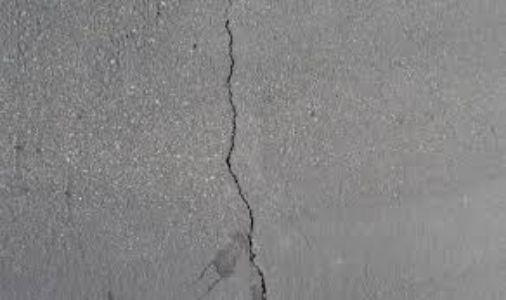crack: (217, 6, 273, 300)
